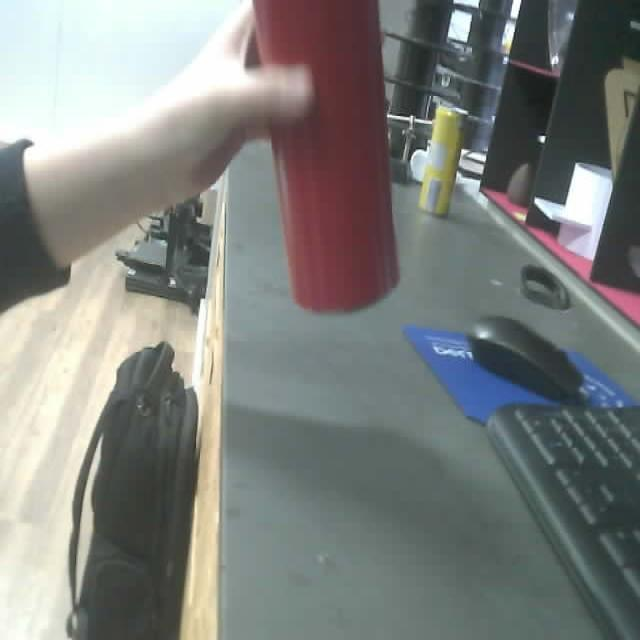water bottle: (250, 0, 401, 315)
